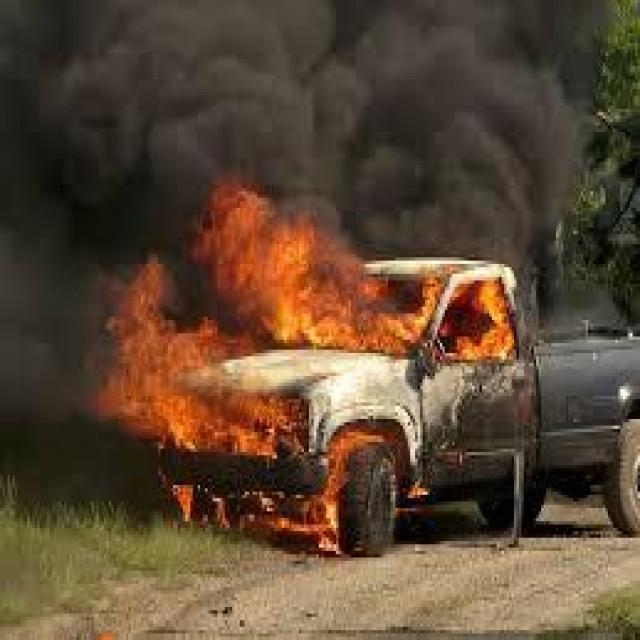fire: (110, 297, 287, 462), (223, 196, 369, 347), (374, 285, 521, 359)
smoke: (18, 19, 563, 185), (7, 249, 91, 434)
